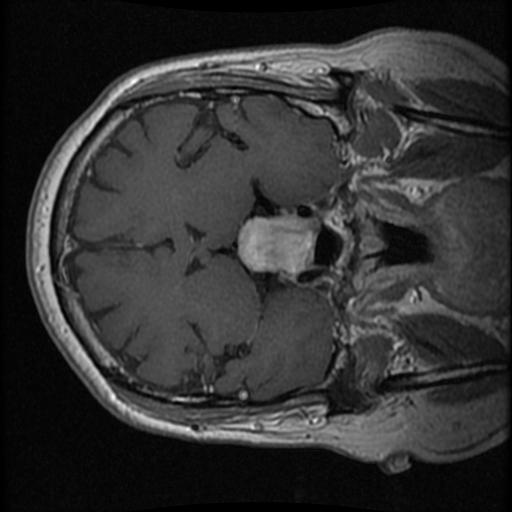pituitary tumour: (236, 216, 315, 274)
